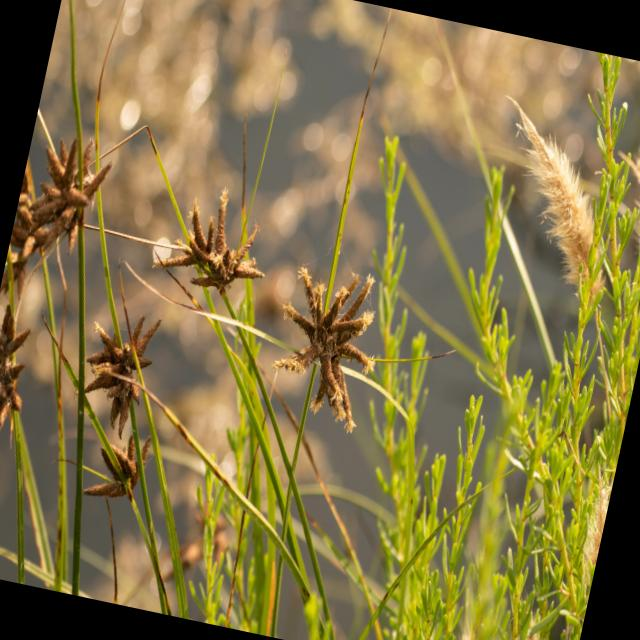cyperus: (0, 113, 115, 583), (252, 238, 394, 428), (52, 293, 178, 499), (147, 170, 272, 312)
